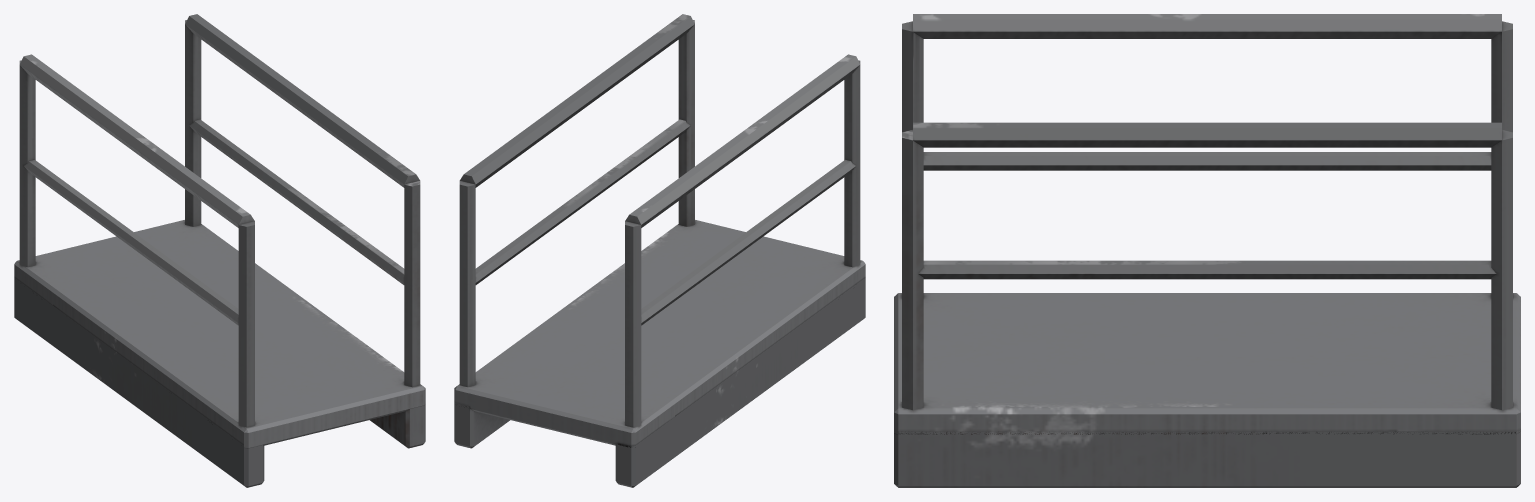
Rendered from nodexeus-set-gantry.glb.
3 renders of one model, left to right at view 1: azimuth 30°, elevation 25°; view 2: azimuth 150°, elevation 25°; view 3: azimuth 270°, elevation 25°, orthographic. The views are drawn at different scales.
Parts seen in each view (by area): view 1: set-gantry; view 2: set-gantry; view 3: set-gantry.
Part boxes in pixels (<box>): set-gantry: <box>14,14,425,487</box>; set-gantry: <box>454,14,865,487</box>; set-gantry: <box>894,14,1520,487</box>.
Bounding box in the file's own units: 0.9 × 1.26 × 2.
Materials: 1 (1 with a texture image).
